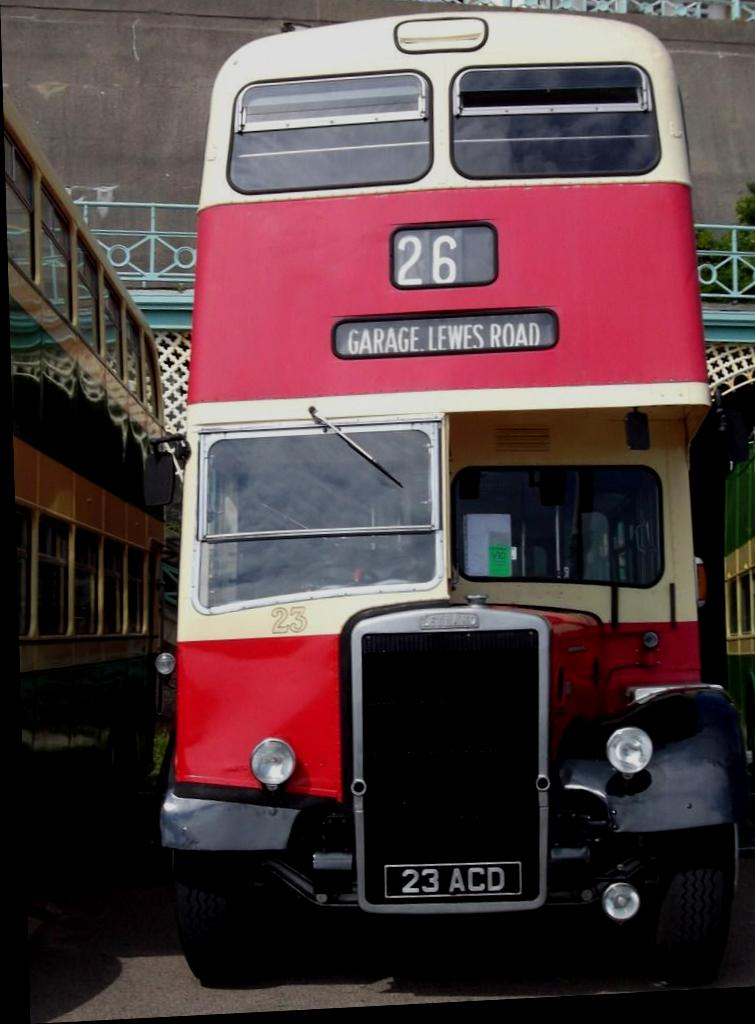License_Plate: (382, 859, 521, 902)
